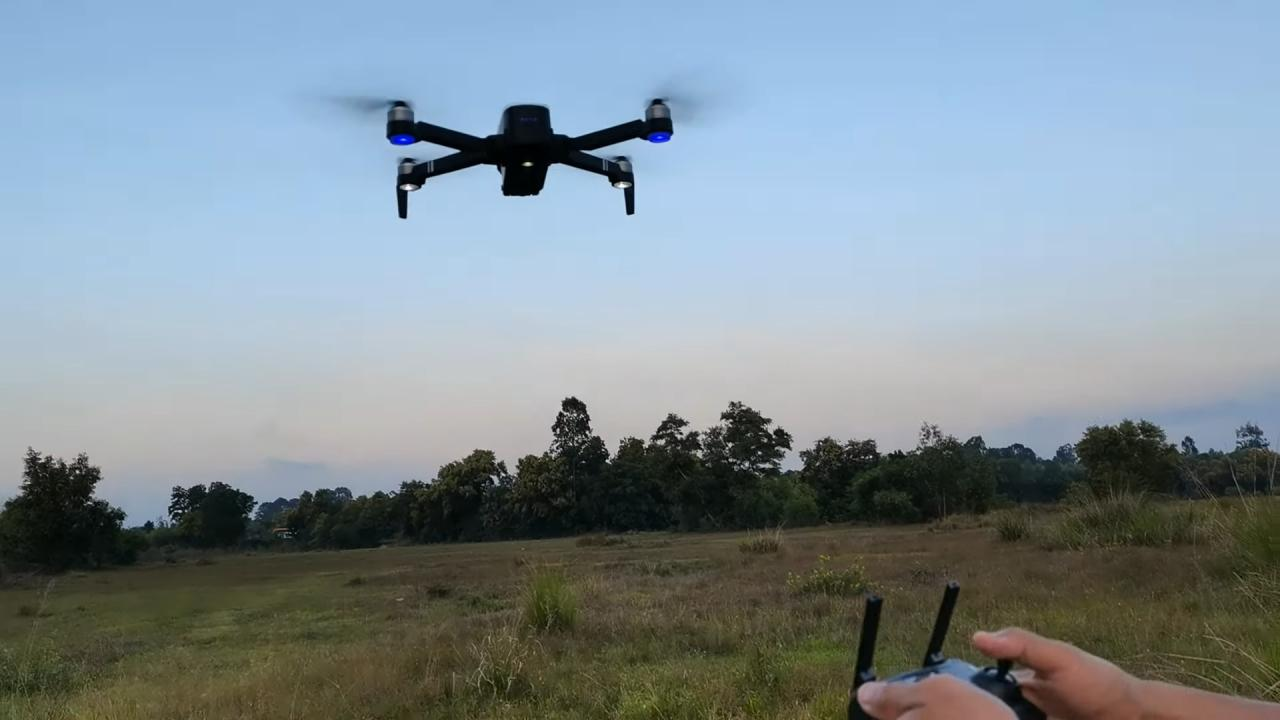Drone: (299, 62, 742, 234)
